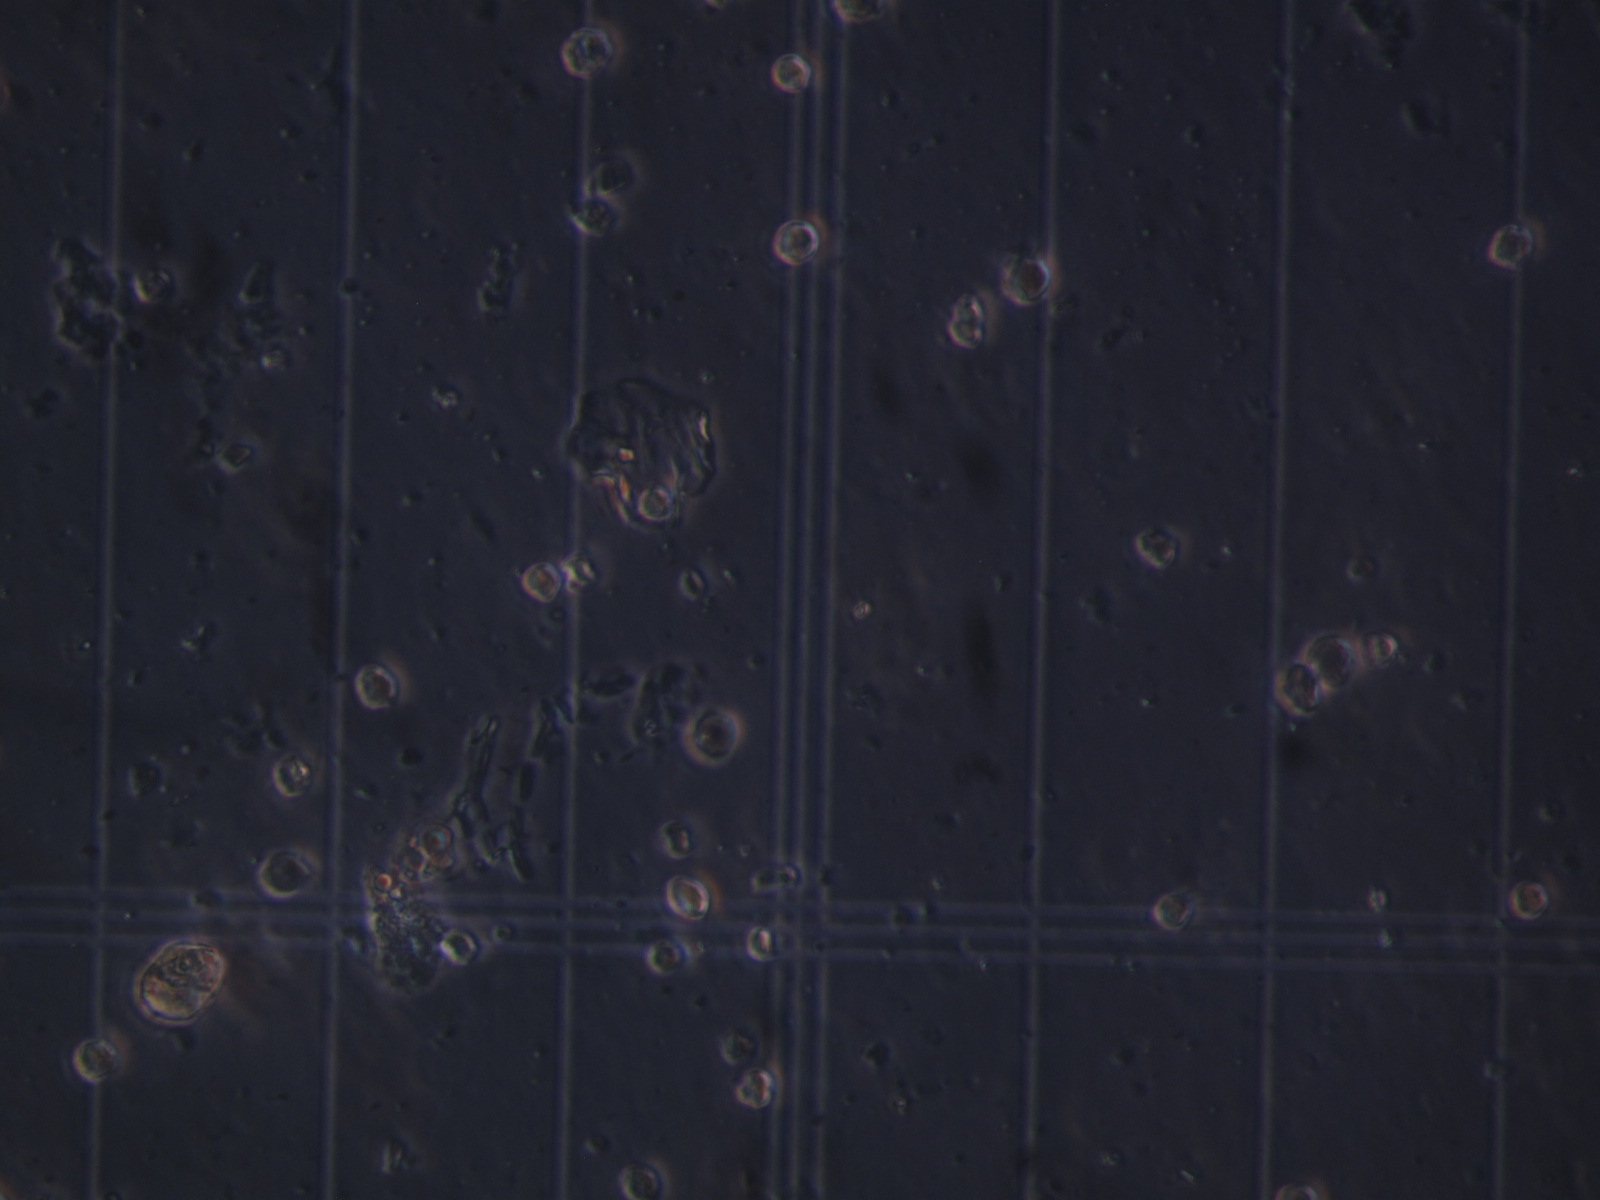hemo: (562, 16, 624, 78), (682, 705, 742, 765), (1301, 633, 1363, 689), (1000, 251, 1061, 308), (354, 650, 409, 711), (1272, 657, 1328, 717), (1489, 214, 1546, 271), (590, 147, 645, 205), (260, 848, 323, 899), (74, 1030, 131, 1084), (665, 868, 722, 923), (774, 211, 826, 267), (947, 292, 997, 349), (1134, 523, 1191, 572), (734, 1063, 786, 1112), (771, 52, 826, 97), (442, 921, 494, 969), (566, 192, 619, 238), (751, 852, 808, 892), (617, 1158, 671, 1200), (134, 262, 181, 308), (272, 754, 314, 798), (646, 937, 693, 976), (522, 558, 562, 603), (1155, 887, 1196, 932), (660, 817, 699, 861), (1512, 879, 1550, 921), (1359, 632, 1400, 668), (639, 485, 675, 522), (831, 1, 892, 23), (217, 440, 256, 473), (747, 925, 779, 964), (1275, 1184, 1318, 1200)
